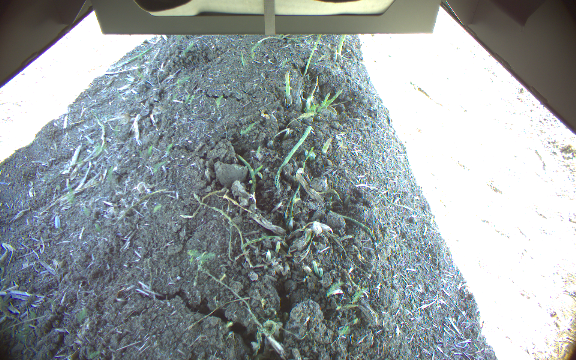aspa: (303, 35, 322, 77), (336, 35, 348, 59), (283, 70, 291, 100)
